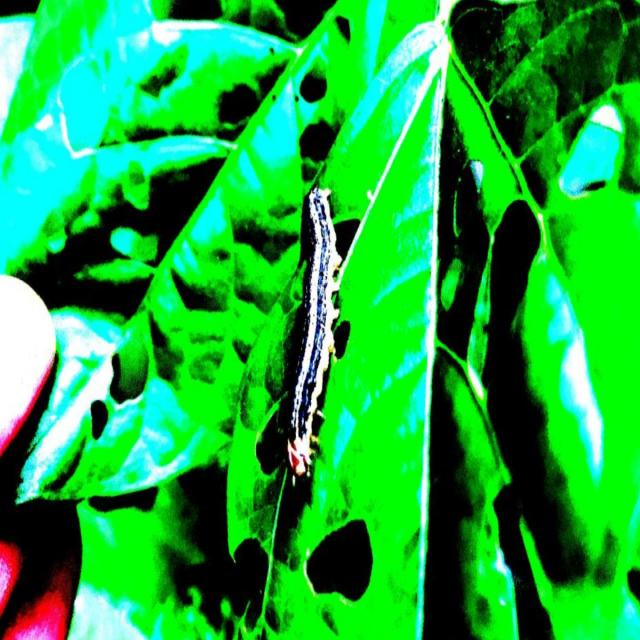Armyworm: (283, 164, 340, 488)
